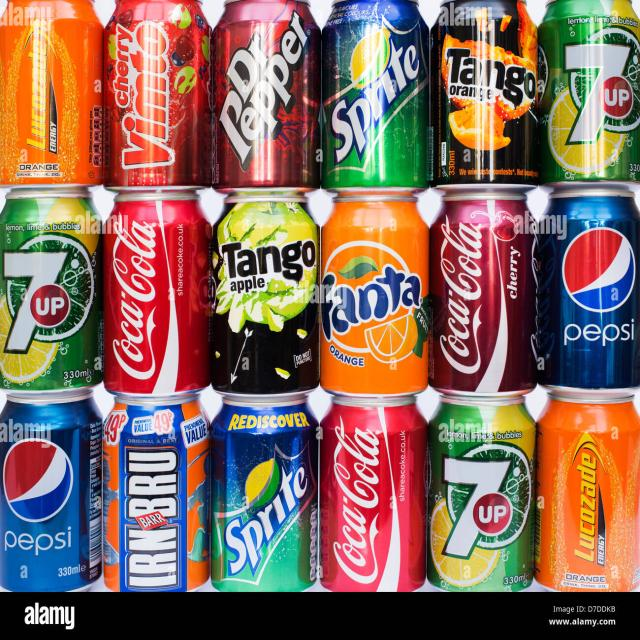Cans: (203, 188, 326, 406), (317, 189, 442, 401), (426, 186, 548, 402), (102, 182, 215, 404), (536, 186, 640, 401), (1, 184, 102, 393)
